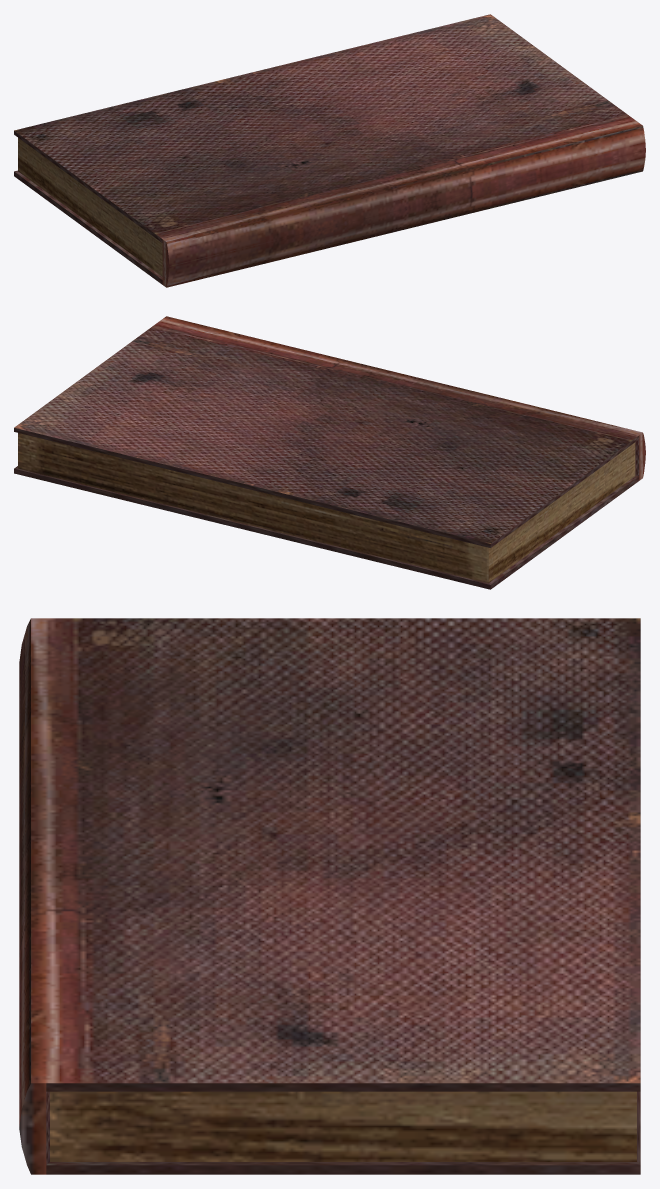
Rendered from Prop_Book_ClosedD.fbx.
The picture shows the model from 3 angles, top to bottom: view 1: azimuth 30°, elevation 25°; view 2: azimuth 150°, elevation 25°; view 3: azimuth 270°, elevation 25°; orthographic projection. The views are drawn at different scales.
Parts seen in each view (by area): view 1: Cube_034; view 2: Cube_034; view 3: Cube_034.
Part boxes in pixels (bbox=[...]): Cube_034: bbox=[14, 14, 645, 287]; Cube_034: bbox=[14, 316, 645, 589]; Cube_034: bbox=[19, 618, 640, 1174].
Bounding box in the file's own units: 1.3 × 0.1191 × 0.734.
